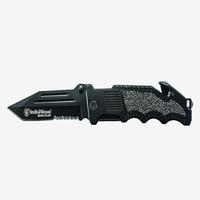knife: (8, 77, 198, 137)
